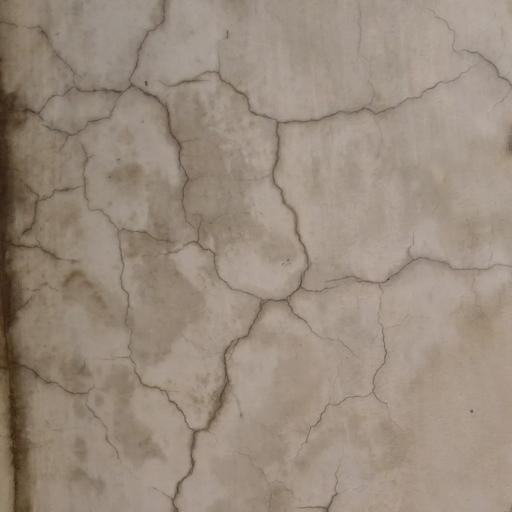major_crack: (34, 14, 420, 512)
